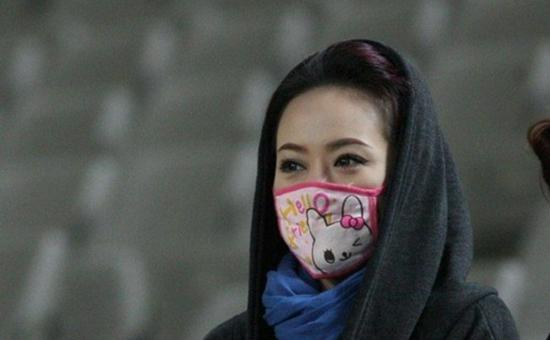OK: (264, 133, 401, 270)
